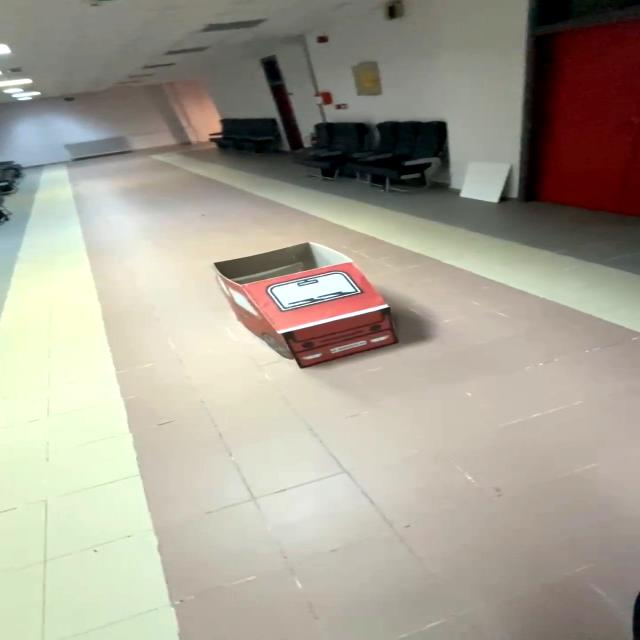red_car: (196, 223, 434, 393)
